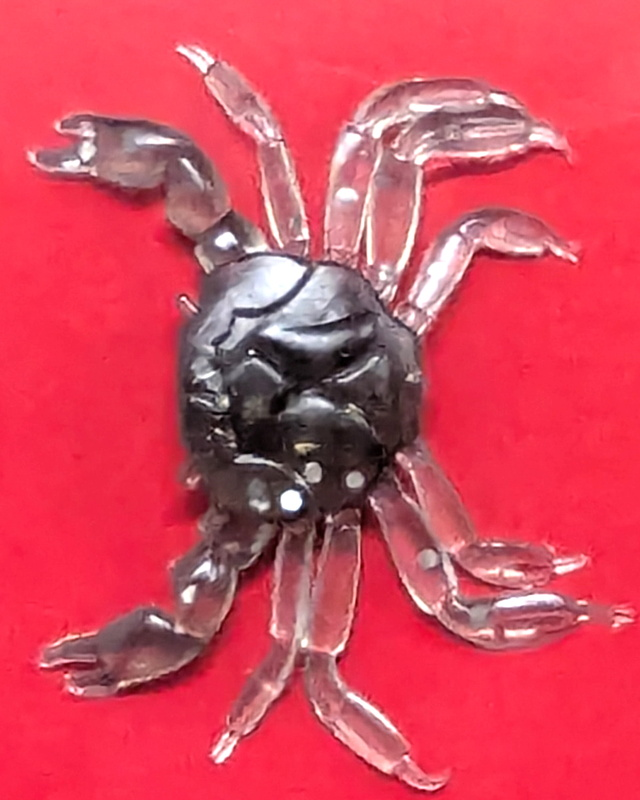crab1: (24, 44, 638, 794)
